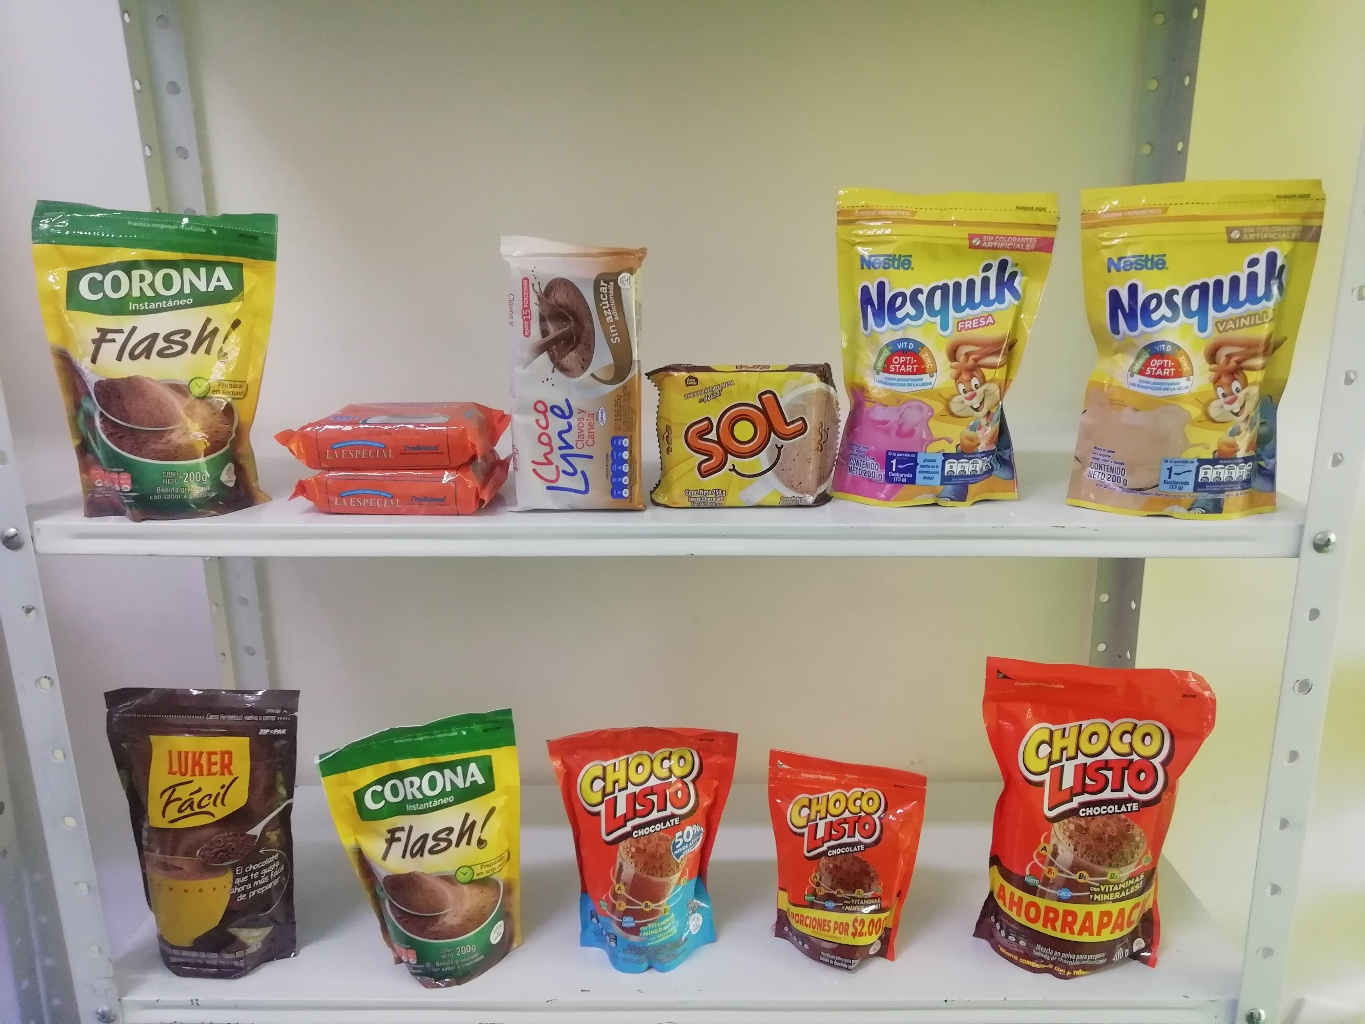COL0170103DYP10000: (763, 740, 961, 975)
COL0170103DYP40000: (984, 640, 1250, 1004)
COL0170104DYP20000: (554, 719, 753, 984)
COL0170305DYP20000: (833, 166, 1078, 512)
COL0170306DYP20000: (1068, 154, 1322, 522)
